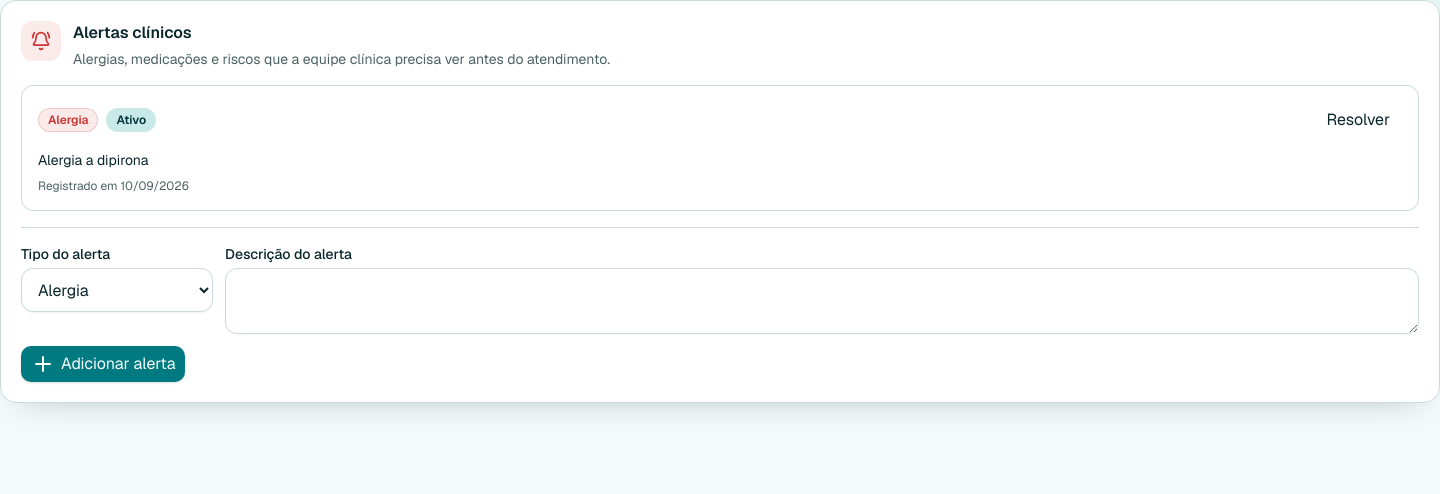
PatientAlertsPanel › shows the permission message on 403
This screenshot has width=1440, height=494.
Type "Risco clínico" into the text box labelled "Descrição do alerta" at x=822, y=301, box [225,268,1419,334]
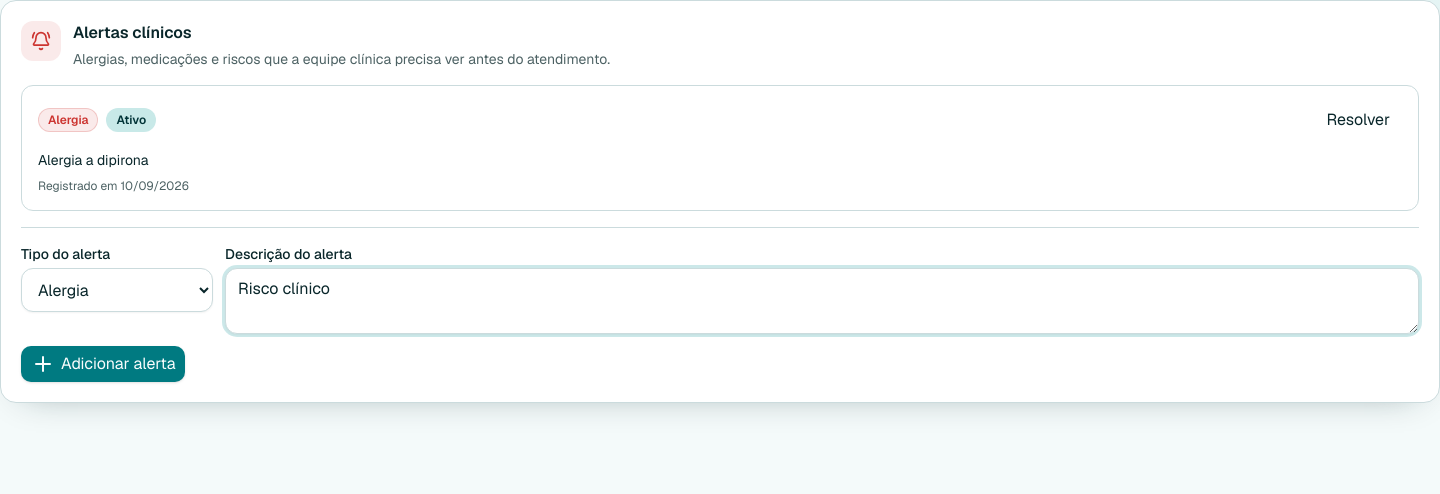
Click the button "Adicionar alerta" at x=103, y=364, box [21,346,186,382]
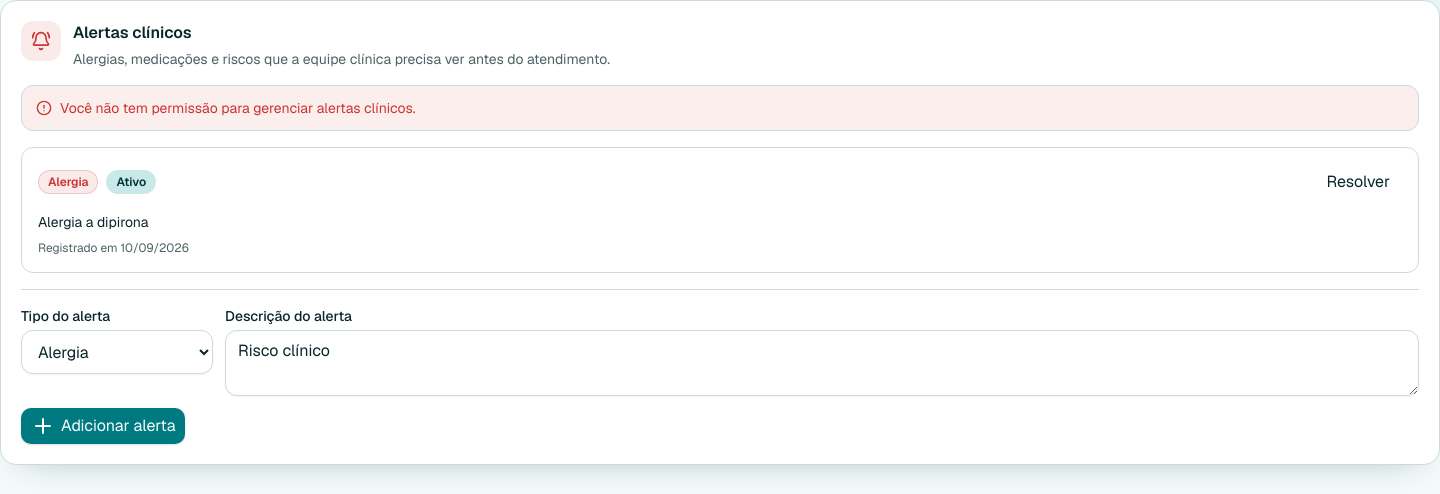
Check: the message reads "Você não tem permissão para gerenciar alertas clínicos.", box [60,99,416,117]
